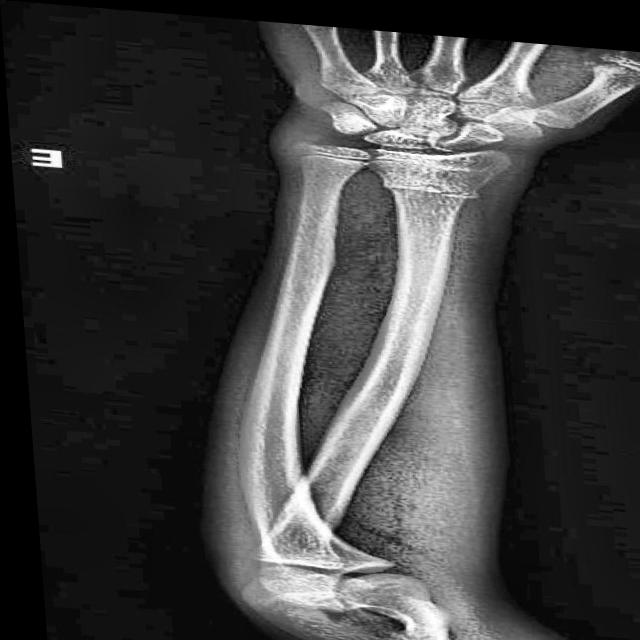fracture: (380, 173, 478, 195)
